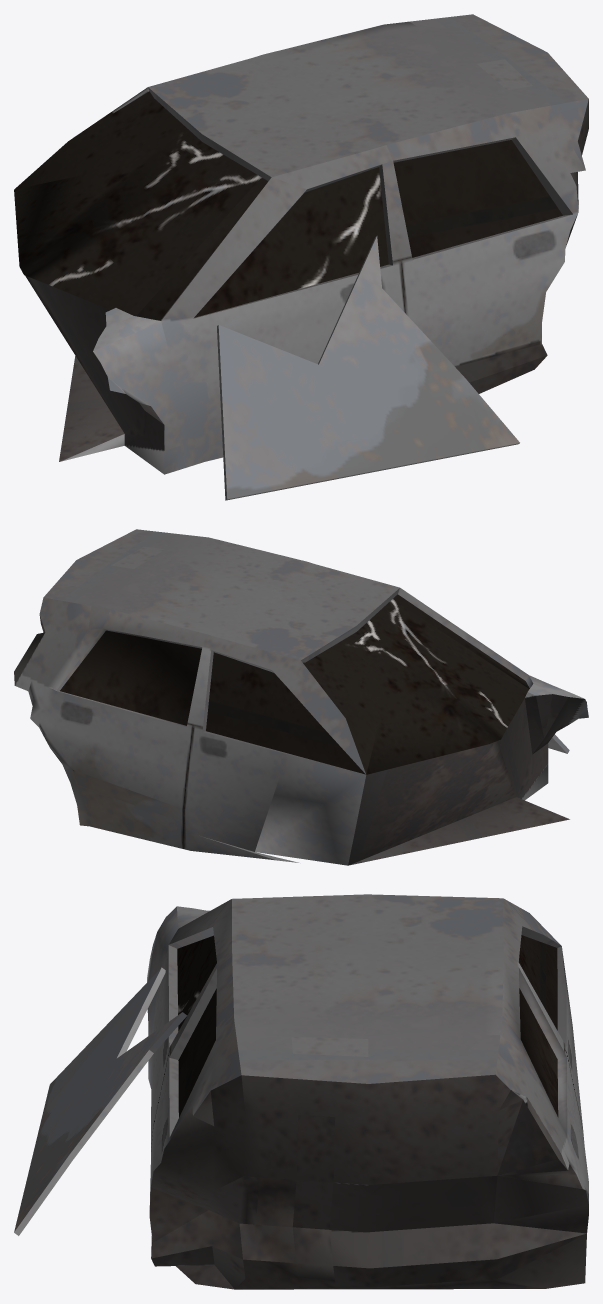
Rendered from P_CAR WRECKED HATCHBACK 2.fbx.
3 views of the same model, one above another, from view 1: azimuth 30°, elevation 25°; view 2: azimuth 150°, elevation 25°; view 3: azimuth 270°, elevation 25° (orthographic). The views are drawn at different scales.
Parts seen in each view (by area): view 1: Car_Wrecked_Hatchback_2; view 2: Car_Wrecked_Hatchback_2; view 3: Car_Wrecked_Hatchback_2.
Part boxes in pixels (x1,y1,x2,y2): Car_Wrecked_Hatchback_2: (14, 14, 588, 500); Car_Wrecked_Hatchback_2: (14, 529, 588, 865); Car_Wrecked_Hatchback_2: (14, 894, 588, 1289).
Bounding box in the file's own units: 377 × 157 × 309.
